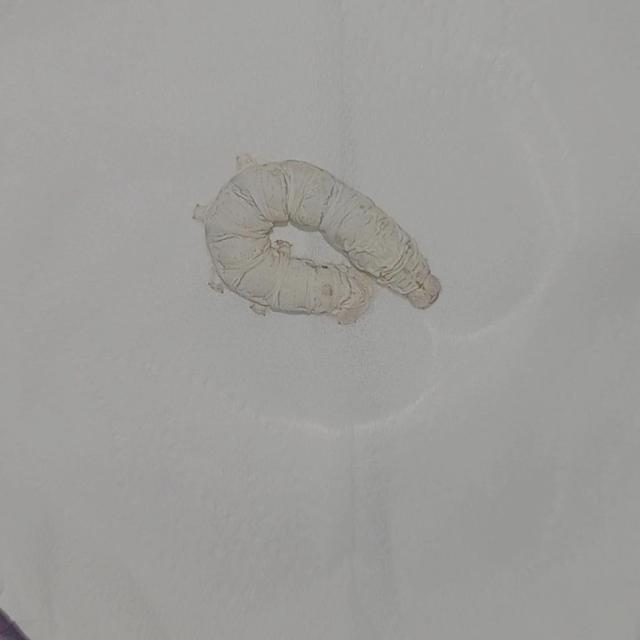Healthy: (180, 139, 452, 341)
